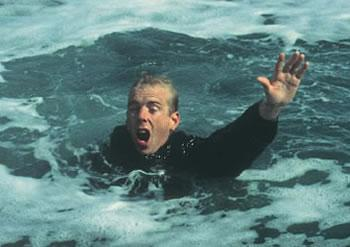drowning: (44, 14, 317, 198)
